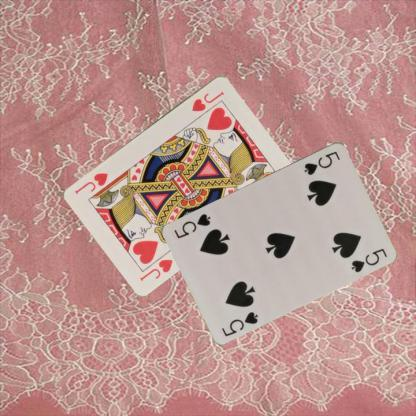5s: (219, 309, 260, 338), (301, 148, 342, 176)
Jh: (137, 256, 174, 282), (189, 88, 226, 112)
